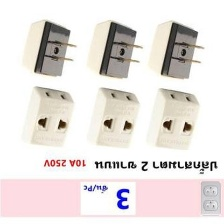three_eye_plug: (84, 18, 145, 84), (20, 83, 79, 151), (145, 20, 208, 82), (19, 17, 84, 77), (85, 87, 143, 151), (144, 88, 202, 152)
